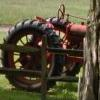Tractor: (8, 19, 100, 100)
